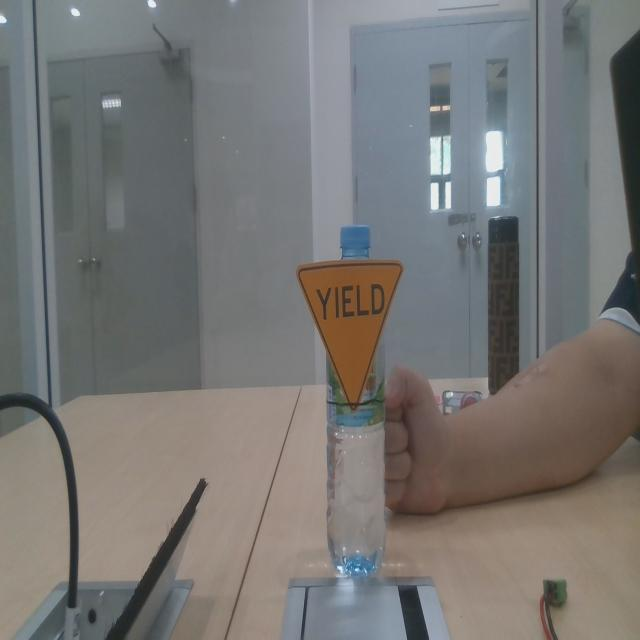Yield: (292, 255, 416, 406)
